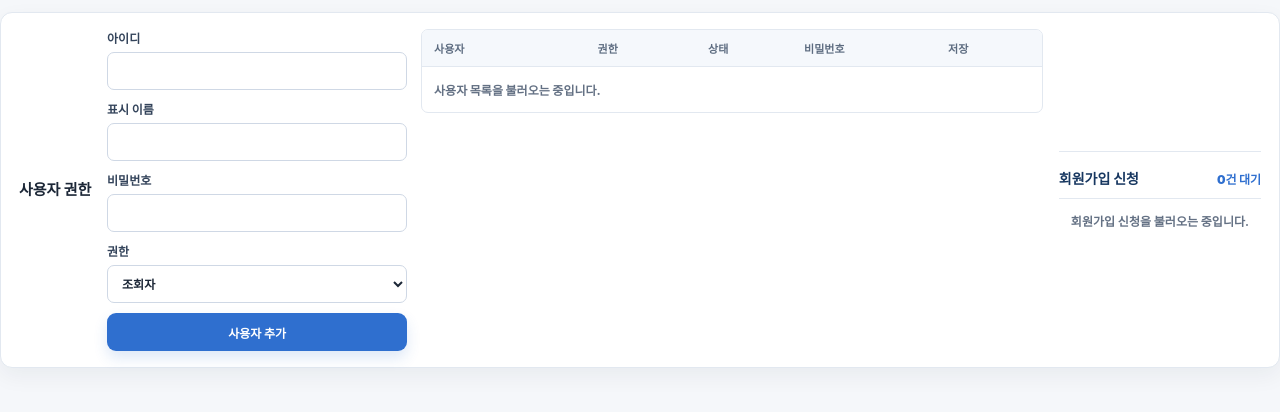
Test: AdminUsersPanel › creates users through the server API
In the field labelled "아이디": (257, 71) [107, 52, 407, 90], type "writer"
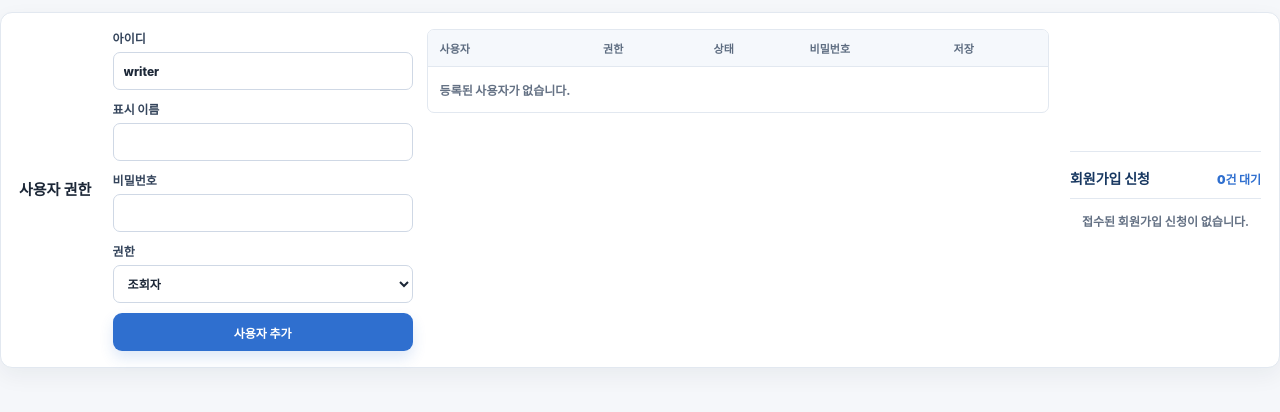
In the field labelled "표시 이름": (263, 142) [113, 123, 413, 161], type "편집자"
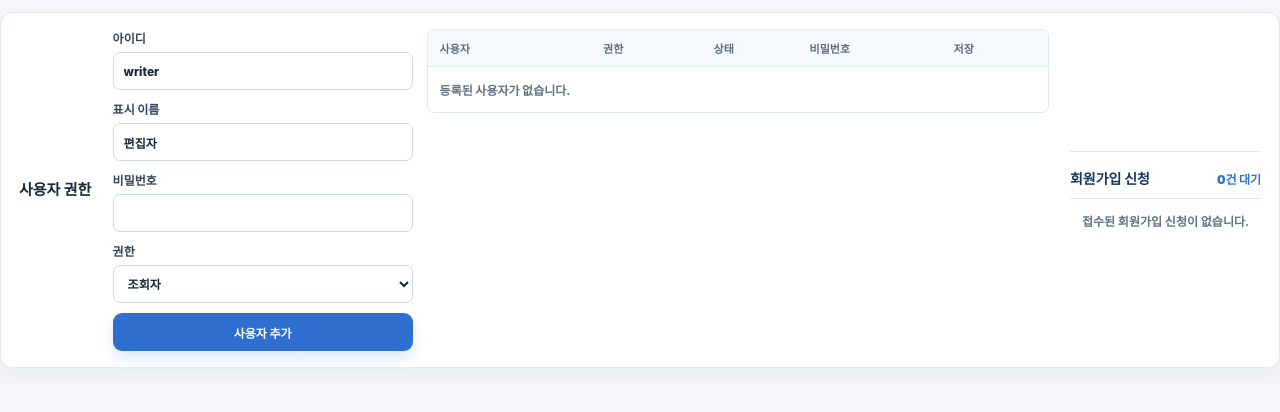
In the password field labelled "비밀번호": (263, 213) [113, 194, 413, 232], type "password-1"
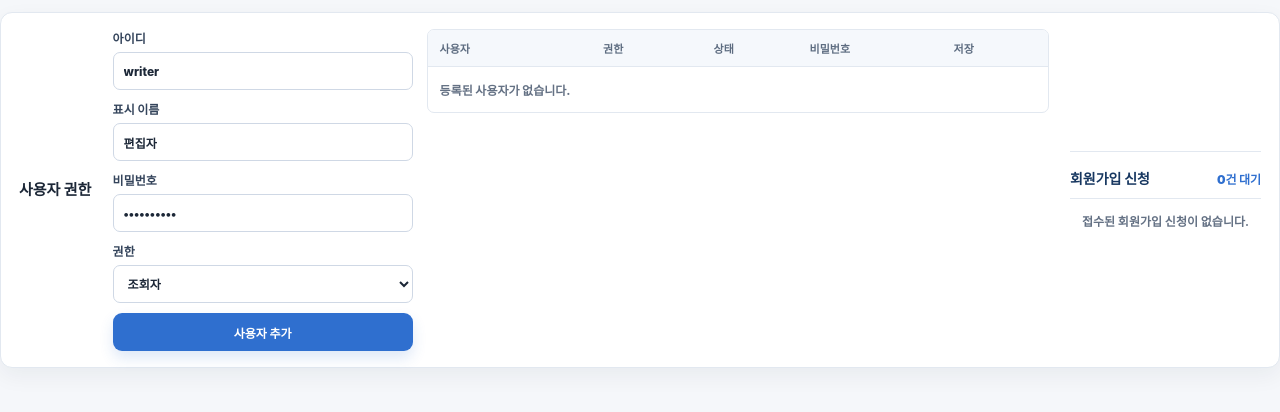
Select "편집자" in the dropdown labelled "권한": (263, 284) [113, 265, 413, 303]
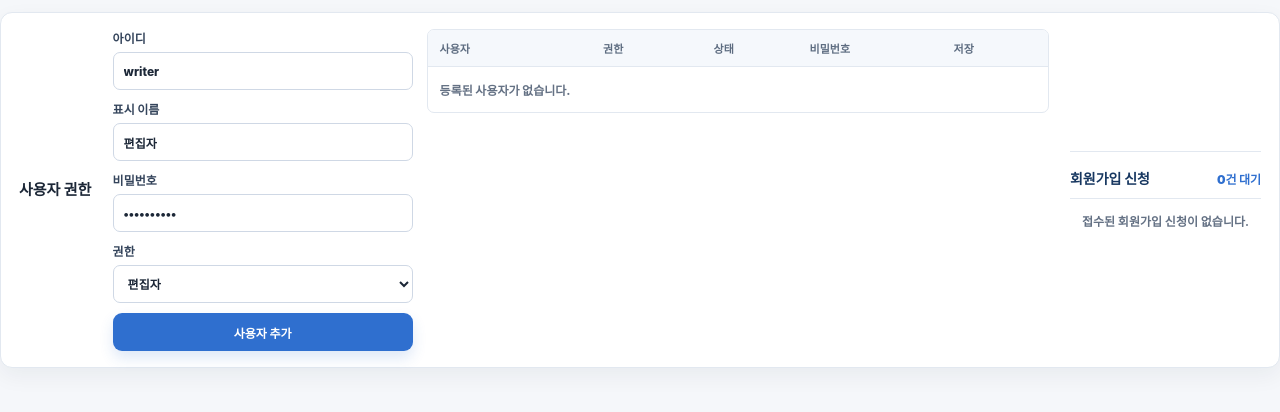
Click the button "사용자 추가": (263, 332) [113, 313, 413, 351]
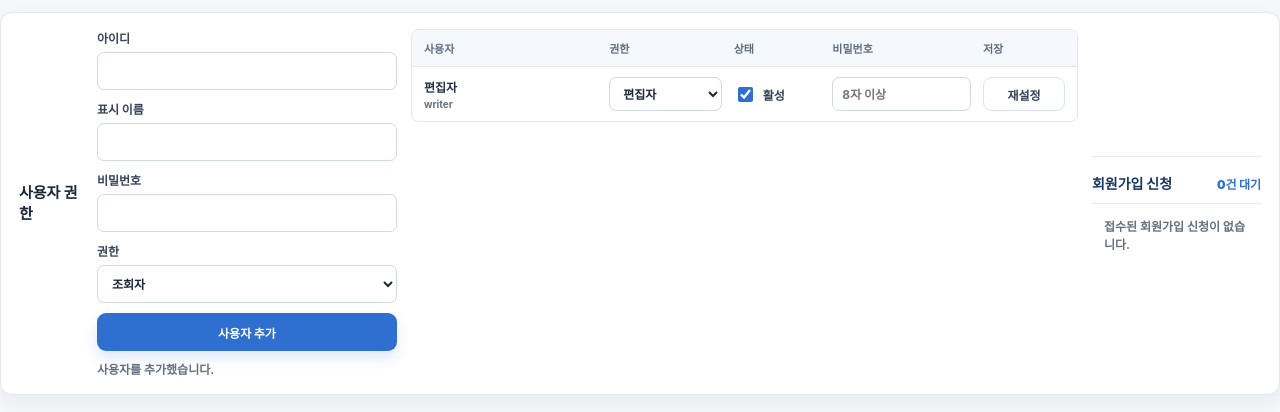
Expected: the text "writer" is shown, [424, 98, 453, 110]
